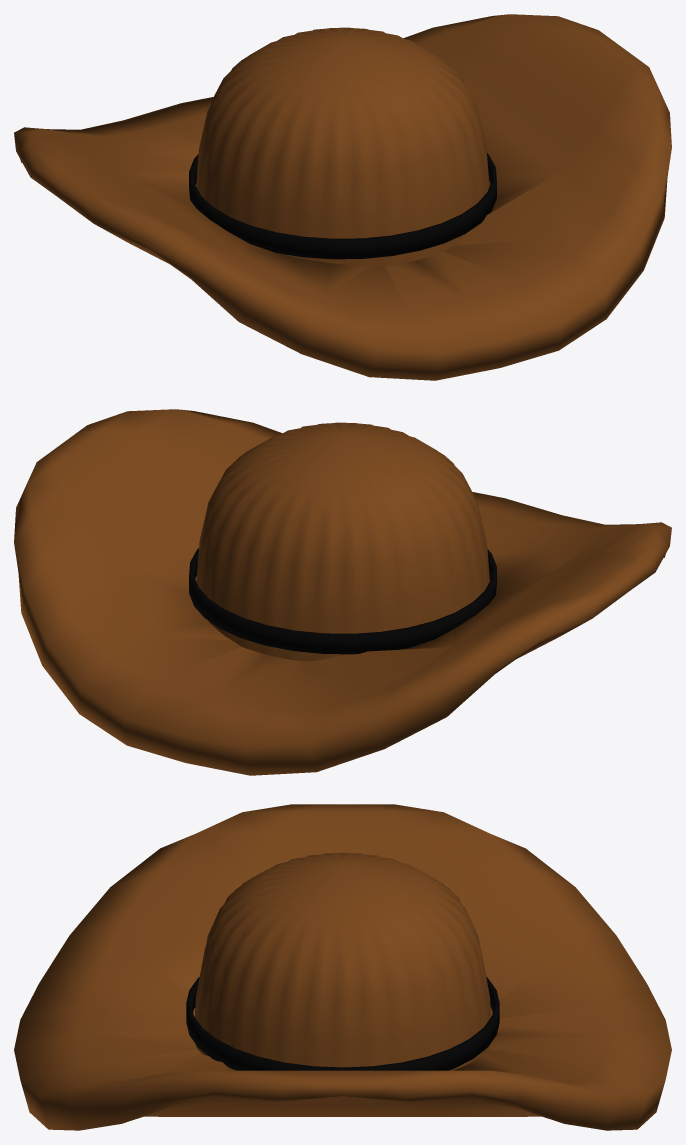
File: Hat1.fbx
3 views of the same model, one above another, from view 1: azimuth 30°, elevation 25°; view 2: azimuth 150°, elevation 25°; view 3: azimuth 270°, elevation 25° (orthographic).
Parts seen in each view (by area): view 1: Circle, Circle.001, Circle.002; view 2: Circle, Circle.001, Circle.002; view 3: Circle, Circle.001, Circle.002.
Part boxes in pixels (box(x1,y1,x2,y2)): Circle: box(14, 14, 671, 380); Circle.001: box(196, 27, 489, 266); Circle.002: box(189, 153, 496, 259); Circle: box(14, 409, 671, 775); Circle.001: box(196, 422, 489, 661); Circle.002: box(189, 548, 496, 654); Circle: box(14, 804, 671, 1130); Circle.001: box(194, 852, 491, 1070); Circle.002: box(186, 977, 499, 1070).
Size of the model in its own units: 81.73 by 28.95 by 80.
